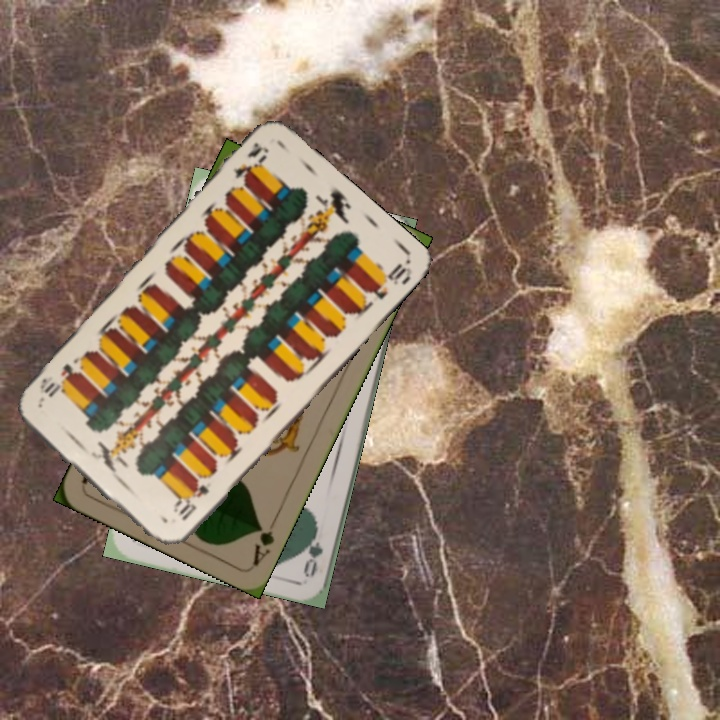E10: (228, 138, 272, 191), (170, 480, 212, 524)
GA: (248, 512, 281, 568)
GO: (299, 519, 326, 579)
